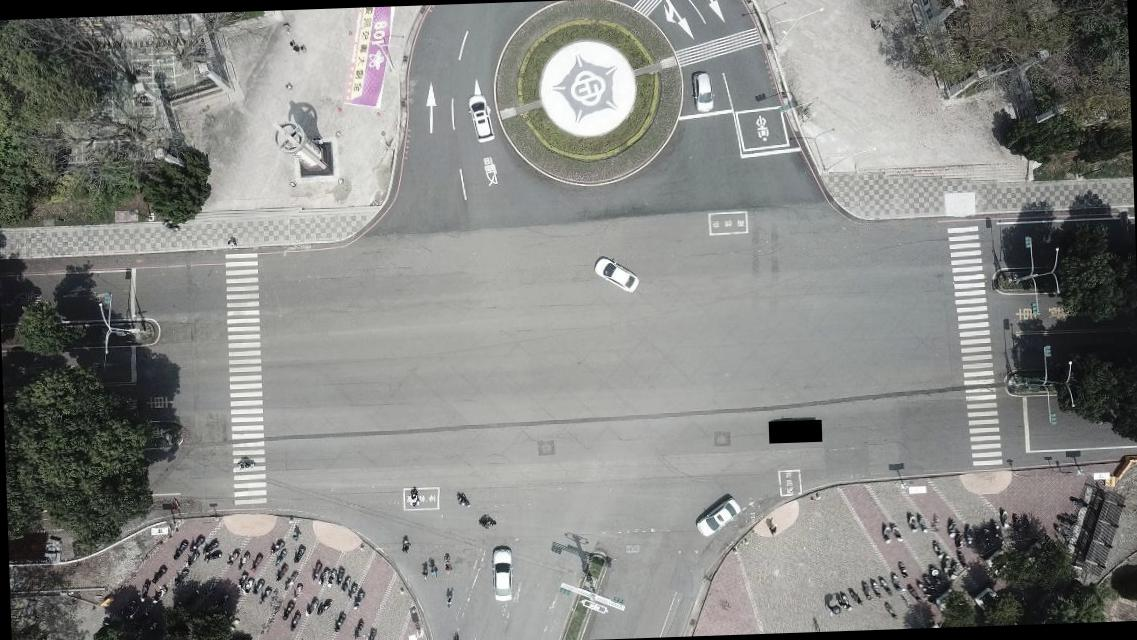vehicle: (694, 495, 744, 539), (592, 255, 640, 298), (489, 544, 515, 605), (467, 92, 495, 146), (691, 68, 714, 114)
